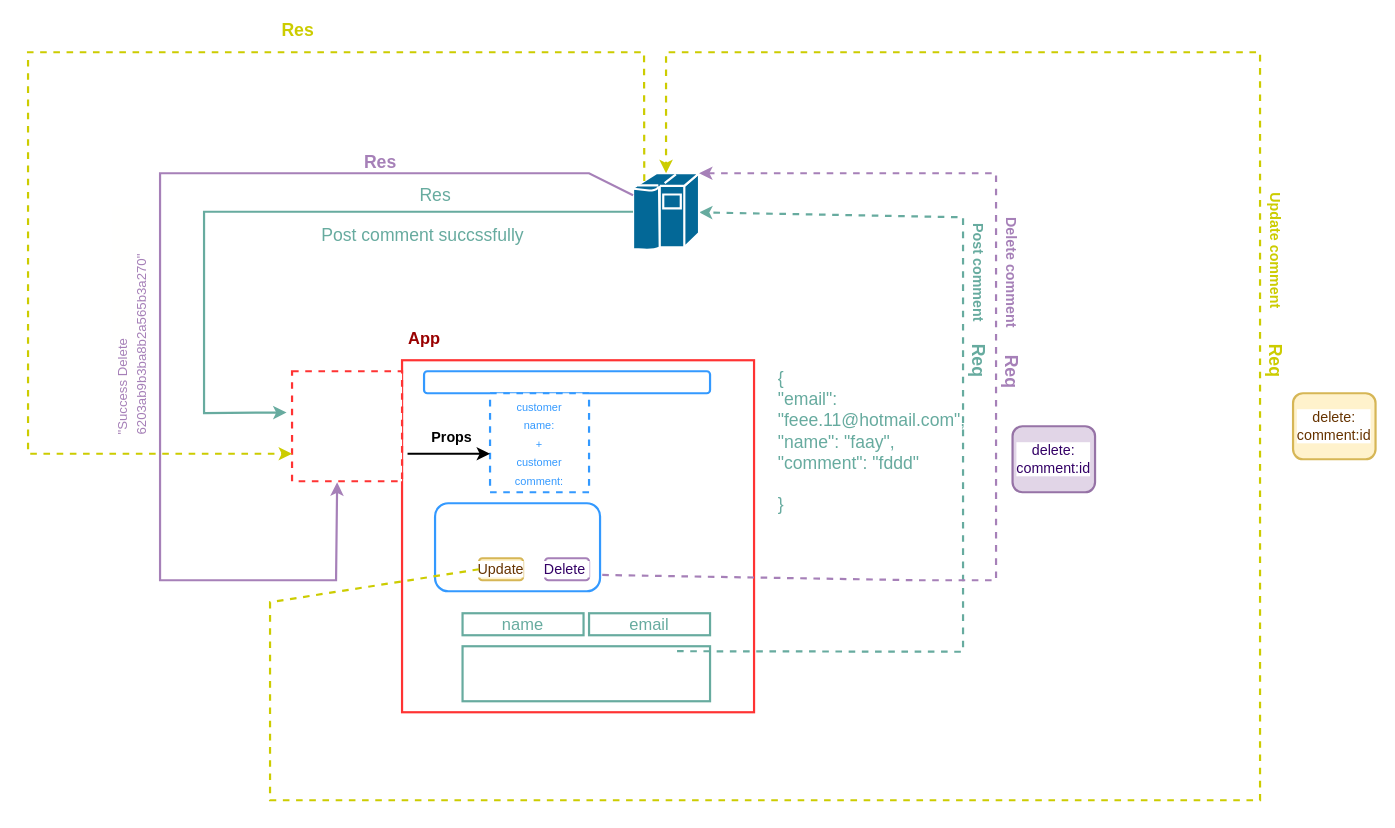
Some shapes in this 1395 by 828 pixel diagram are drawn without their labels. The shapes that lost their labels are listed below. From the top down, each one's box as (x1, y1, x2, y2) in pixels, then its label:
(422, 370, 711, 394): Home Review About contact
(290, 370, 403, 482): comment: new comment
(433, 502, 601, 592): customer comment:
(461, 645, 711, 702): comment
